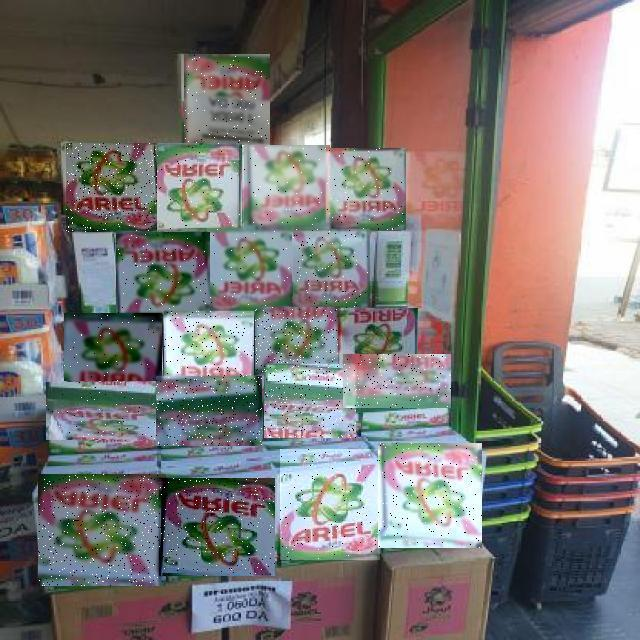Detergent: (39, 474, 167, 586), (159, 478, 275, 576), (280, 449, 380, 560), (378, 443, 482, 548), (66, 143, 159, 232), (185, 54, 271, 148), (158, 143, 246, 231), (116, 232, 210, 314), (156, 376, 262, 446), (245, 146, 330, 232), (210, 228, 292, 314), (264, 364, 356, 438), (64, 313, 162, 381), (46, 382, 160, 440), (326, 148, 406, 230), (293, 229, 370, 311), (164, 311, 254, 380), (343, 355, 451, 409), (255, 307, 340, 373), (339, 308, 419, 370)
